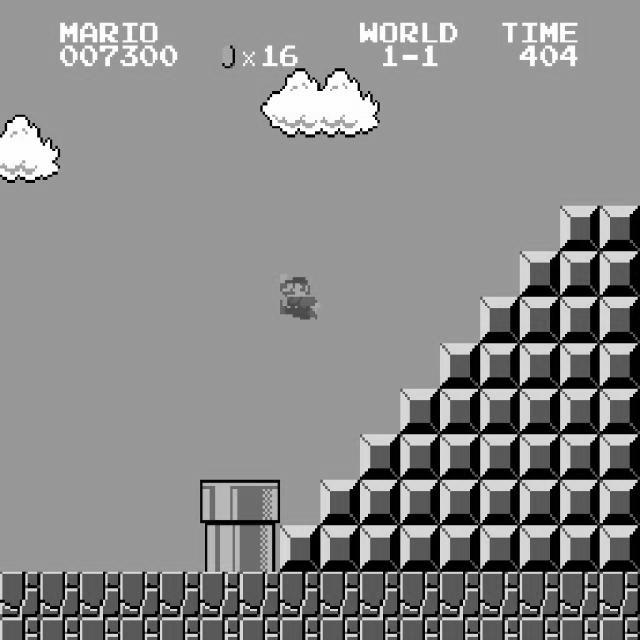11- little_mario: (277, 271, 320, 320)
14- pipe: (200, 526, 240, 572), (240, 526, 280, 572)
15- pipe_head: (200, 480, 240, 526), (240, 480, 280, 526)
17- undestructible_block: (599, 571, 640, 617), (0, 571, 40, 617), (40, 572, 80, 618), (80, 572, 120, 618), (120, 572, 160, 618), (160, 572, 200, 618), (200, 572, 240, 618), (240, 572, 280, 618), (280, 572, 320, 618), (320, 572, 360, 618), (360, 572, 400, 618), (400, 572, 440, 618), (440, 572, 480, 618), (480, 572, 520, 618), (520, 572, 560, 618), (560, 572, 600, 618), (40, 617, 80, 640), (80, 617, 120, 640), (120, 617, 160, 640), (160, 617, 200, 640), (200, 617, 240, 640), (240, 617, 280, 640), (280, 617, 320, 640), (320, 617, 360, 640), (360, 617, 400, 640), (400, 617, 440, 640), (440, 617, 480, 640), (480, 617, 520, 640), (520, 617, 560, 640), (560, 617, 600, 640), (599, 617, 640, 639), (0, 617, 40, 639)
9- hard_block: (599, 205, 640, 251), (599, 251, 640, 297), (599, 342, 640, 388), (599, 388, 640, 434), (599, 525, 640, 571), (599, 297, 640, 342), (599, 434, 640, 479), (599, 480, 640, 525), (280, 526, 320, 572), (320, 480, 360, 526), (320, 526, 360, 572), (360, 434, 400, 480), (360, 480, 400, 526), (360, 526, 400, 572), (400, 388, 440, 434), (400, 434, 440, 480), (400, 480, 440, 526), (400, 526, 440, 572), (440, 388, 480, 434), (440, 434, 480, 480), (440, 480, 480, 526), (440, 526, 480, 572), (480, 297, 520, 343), (480, 388, 520, 434), (480, 434, 520, 480), (480, 480, 520, 526), (480, 526, 520, 572), (520, 252, 560, 298), (520, 297, 560, 343), (520, 388, 560, 434), (520, 434, 560, 480), (520, 480, 560, 526), (520, 526, 560, 572), (560, 252, 600, 298), (560, 297, 600, 343), (560, 388, 600, 434), (560, 434, 600, 480), (560, 480, 600, 526), (560, 526, 600, 572), (440, 343, 480, 388), (480, 343, 520, 388), (520, 343, 560, 388), (560, 206, 600, 251), (560, 343, 600, 388)
